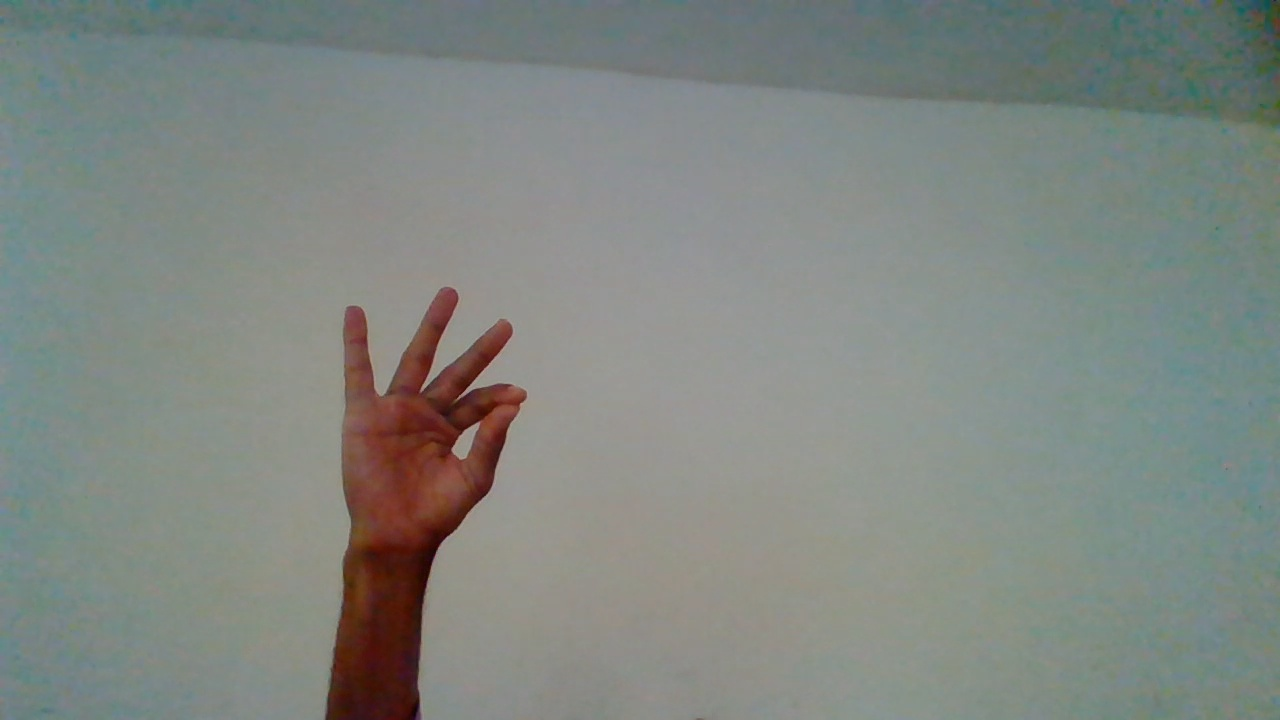le: (335, 280, 529, 661)
